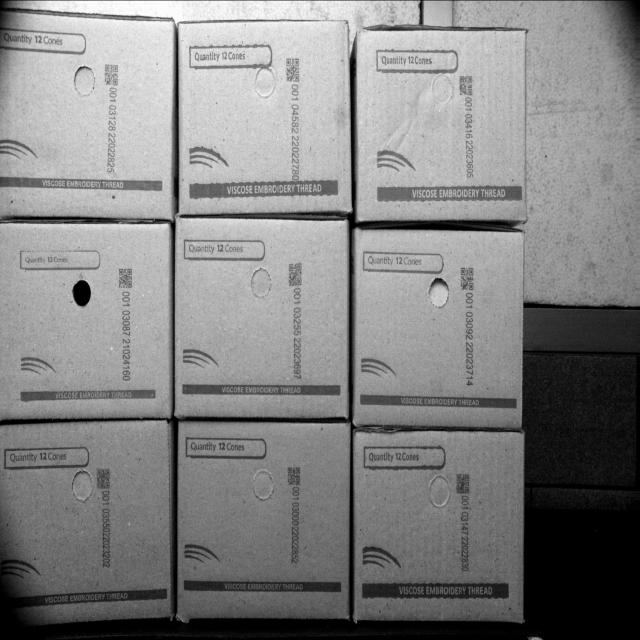cardboxes: (177, 423, 352, 628), (0, 8, 169, 218), (349, 229, 530, 425), (174, 220, 352, 416), (355, 432, 529, 626), (356, 29, 527, 226), (180, 17, 354, 209), (0, 225, 171, 418), (0, 429, 171, 622)
